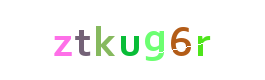6: (115, 0, 195, 80)
G: (115, 0, 195, 80)
K: (69, 0, 149, 80)
R: (140, 0, 220, 80)
T: (42, 0, 122, 80)
U: (92, 0, 172, 80)
Z: (22, 0, 102, 80)
